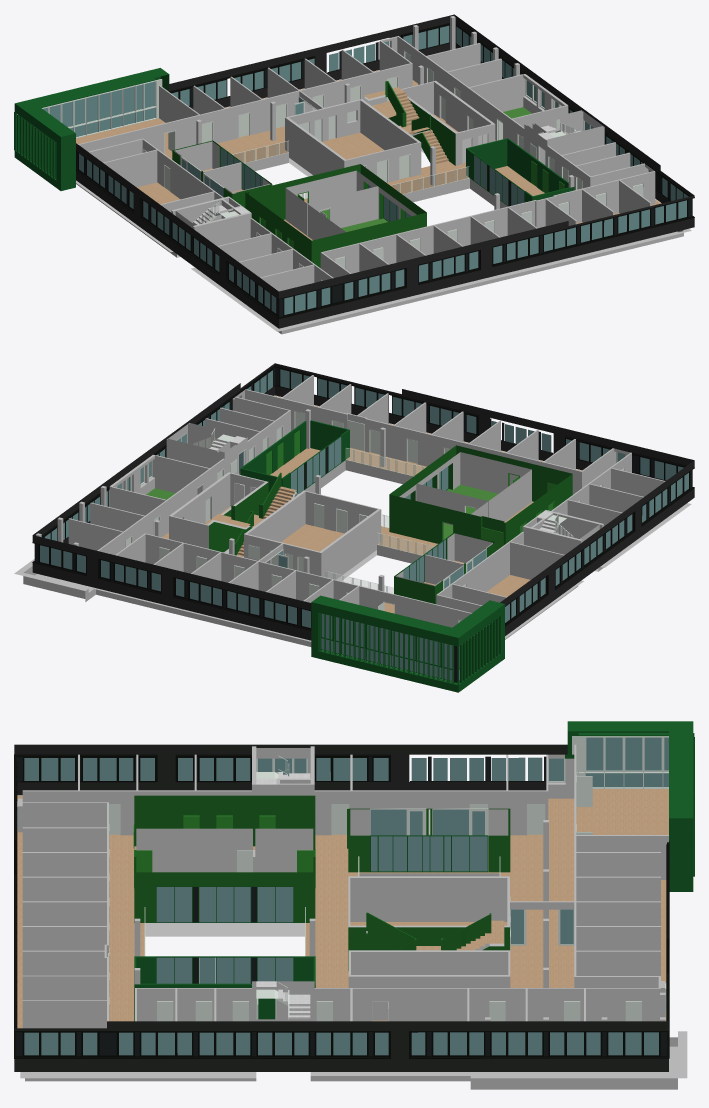
The picture shows the model from 3 angles, top to bottom: view 1: azimuth 30°, elevation 25°; view 2: azimuth 150°, elevation 25°; view 3: azimuth 270°, elevation 25°; orthographic projection. The views are drawn at different scales.
Visible parts, largest first — view 1: LEVEL3_WALLS_01, LEVEL3_GLASS_00, LEVEL3_FACADE_00, LEVEL3_WALLS_02, LEVEL3_FLOOR_CEILING_00, LEVEL3_FACADE_01, LEVEL3_FACADE_47, LEVEL3_STAIRS_00, LEVEL3_WALLS_00, LEVEL3_FACADE_46, LEVEL3_RAILING_00, LEVEL3_RAILING_03; view 2: LEVEL3_WALLS_01, LEVEL3_GLASS_00, LEVEL3_FACADE_00, LEVEL3_WALLS_02, LEVEL3_FLOOR_CEILING_00, LEVEL3_FACADE_01, LEVEL3_FACADE_47, LEVEL3_STAIRS_00, LEVEL3_WALLS_00, LEVEL3_RAILING_01, LEVEL3_RAILING_02; view 3: LEVEL3_WALLS_01, LEVEL3_GLASS_00, LEVEL3_FLOOR_CEILING_00, LEVEL3_FACADE_00, LEVEL3_WALLS_02, LEVEL3_FACADE_01, LEVEL3_FACADE_47, LEVEL3_STAIRS_00, LEVEL3_WALLS_00, LEVEL3_FACADE_46, LEVEL3_FRAME_05, LEVEL3_FRAME_07 (+3 smaller).
Boxes of the visible parts, x1,y1,x2,y2 form: LEVEL3_WALLS_01: (78, 36, 655, 291); LEVEL3_GLASS_00: (23, 25, 688, 314); LEVEL3_FACADE_00: (76, 14, 694, 328); LEVEL3_WALLS_02: (172, 140, 426, 267); LEVEL3_FLOOR_CEILING_00: (76, 70, 691, 334); LEVEL3_FACADE_01: (29, 23, 694, 318); LEVEL3_FACADE_47: (14, 68, 169, 190); LEVEL3_STAIRS_00: (364, 81, 452, 172); LEVEL3_WALLS_00: (196, 16, 574, 209); LEVEL3_FACADE_46: (42, 79, 162, 138); LEVEL3_RAILING_00: (390, 166, 469, 194); LEVEL3_RAILING_03: (232, 140, 288, 163); LEVEL3_WALLS_01: (68, 375, 665, 627); LEVEL3_GLASS_00: (40, 369, 688, 680); LEVEL3_FACADE_00: (32, 363, 694, 640); LEVEL3_WALLS_02: (389, 445, 572, 604); LEVEL3_FLOOR_CEILING_00: (14, 395, 691, 646); LEVEL3_FACADE_01: (32, 365, 694, 682); LEVEL3_FACADE_47: (311, 595, 504, 692); LEVEL3_STAIRS_00: (211, 472, 296, 557); LEVEL3_WALLS_00: (36, 409, 385, 591); LEVEL3_RAILING_01: (345, 448, 425, 476); LEVEL3_RAILING_02: (377, 532, 434, 555); LEVEL3_WALLS_01: (17, 744, 668, 1028); LEVEL3_GLASS_00: (24, 737, 668, 1055); LEVEL3_FLOOR_CEILING_00: (17, 789, 687, 1089); LEVEL3_FACADE_00: (14, 744, 668, 1071); LEVEL3_WALLS_02: (134, 795, 510, 922); LEVEL3_FACADE_01: (14, 735, 669, 1058); LEVEL3_FACADE_47: (567, 721, 693, 891); LEVEL3_STAIRS_00: (366, 912, 504, 950); LEVEL3_WALLS_00: (134, 820, 665, 1021); LEVEL3_FACADE_46: (572, 736, 668, 788); LEVEL3_FRAME_05: (156, 886, 293, 922); LEVEL3_FRAME_07: (370, 835, 488, 872).
Bounding box in the file's own units: 43.06 × 5.65 × 41.98.
